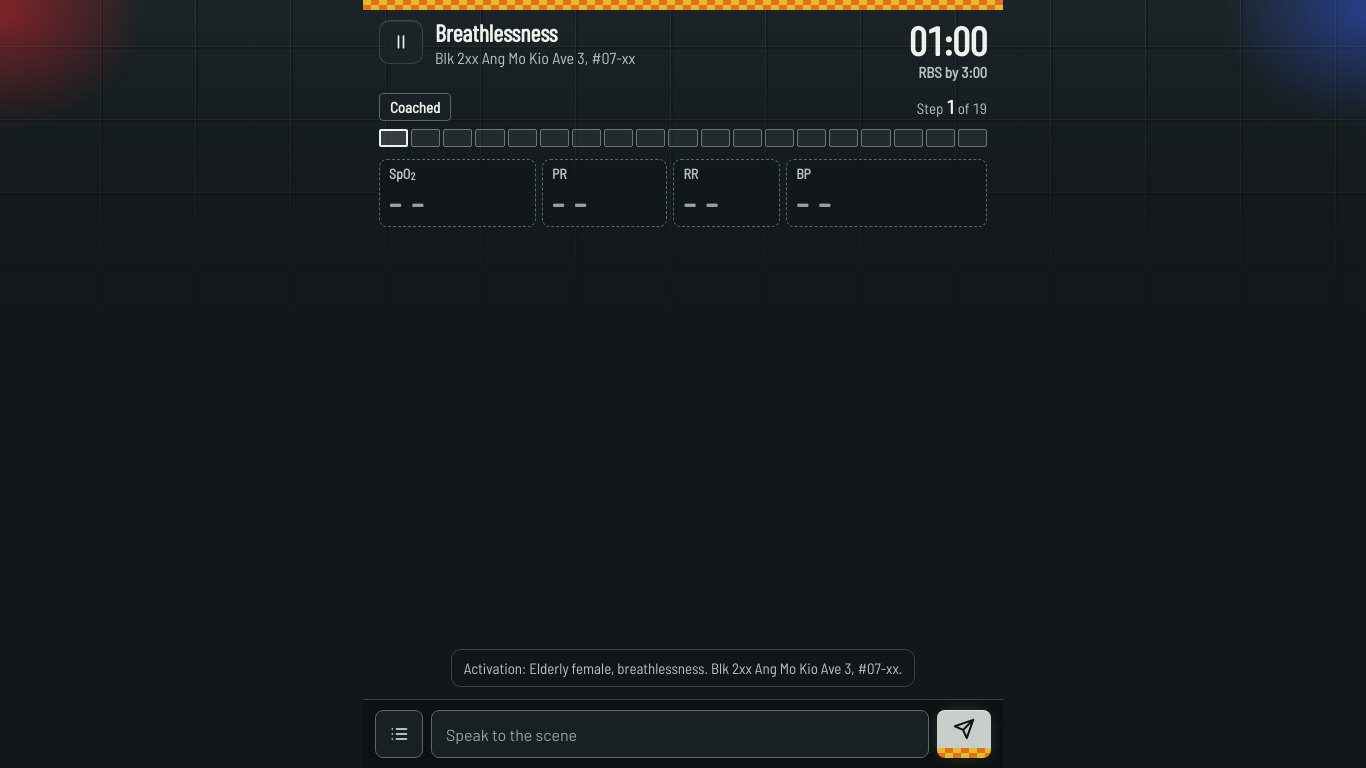
Pause › Resume closes it and the clock runs again
Click the button named "Pause": point(401, 42) 379,20 -> 423,64
Wait 5000 ms
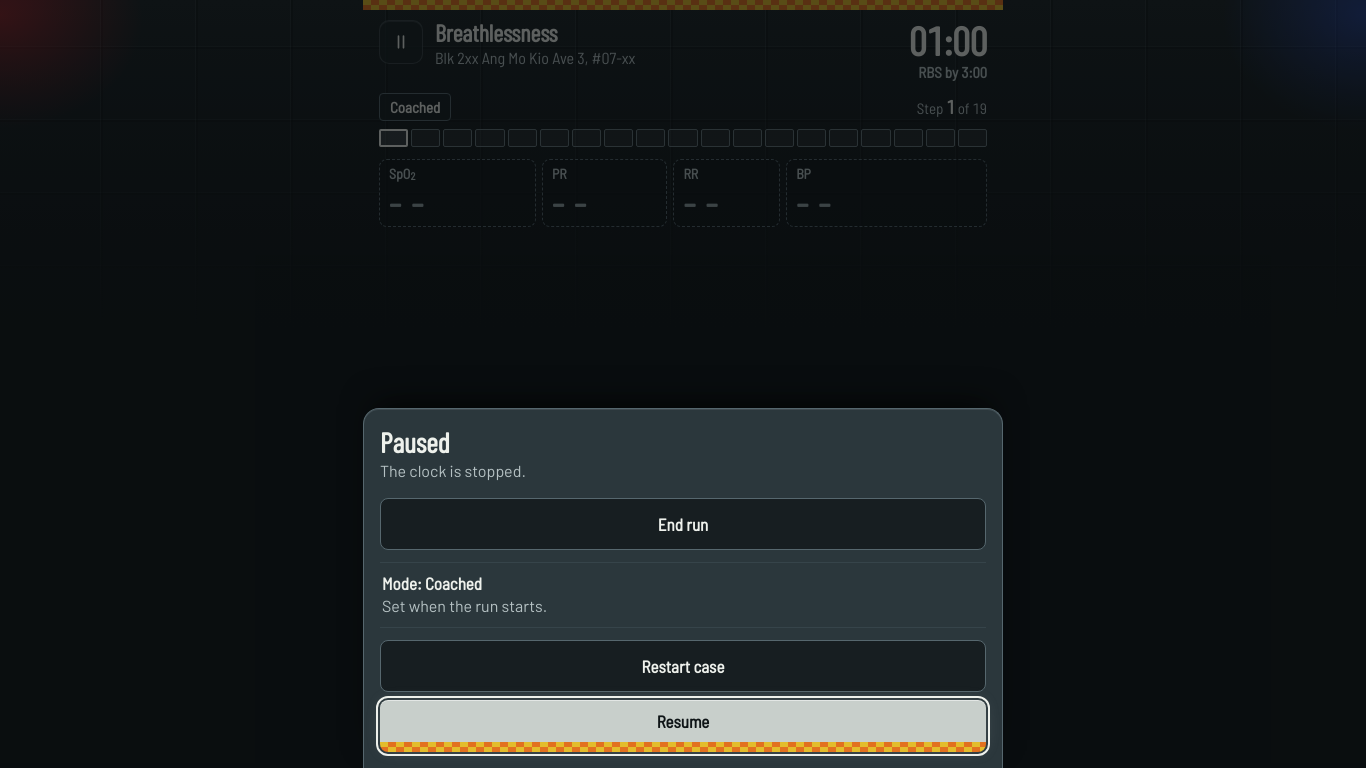
Click the button "Resume": point(683, 726) 380,700 -> 986,752
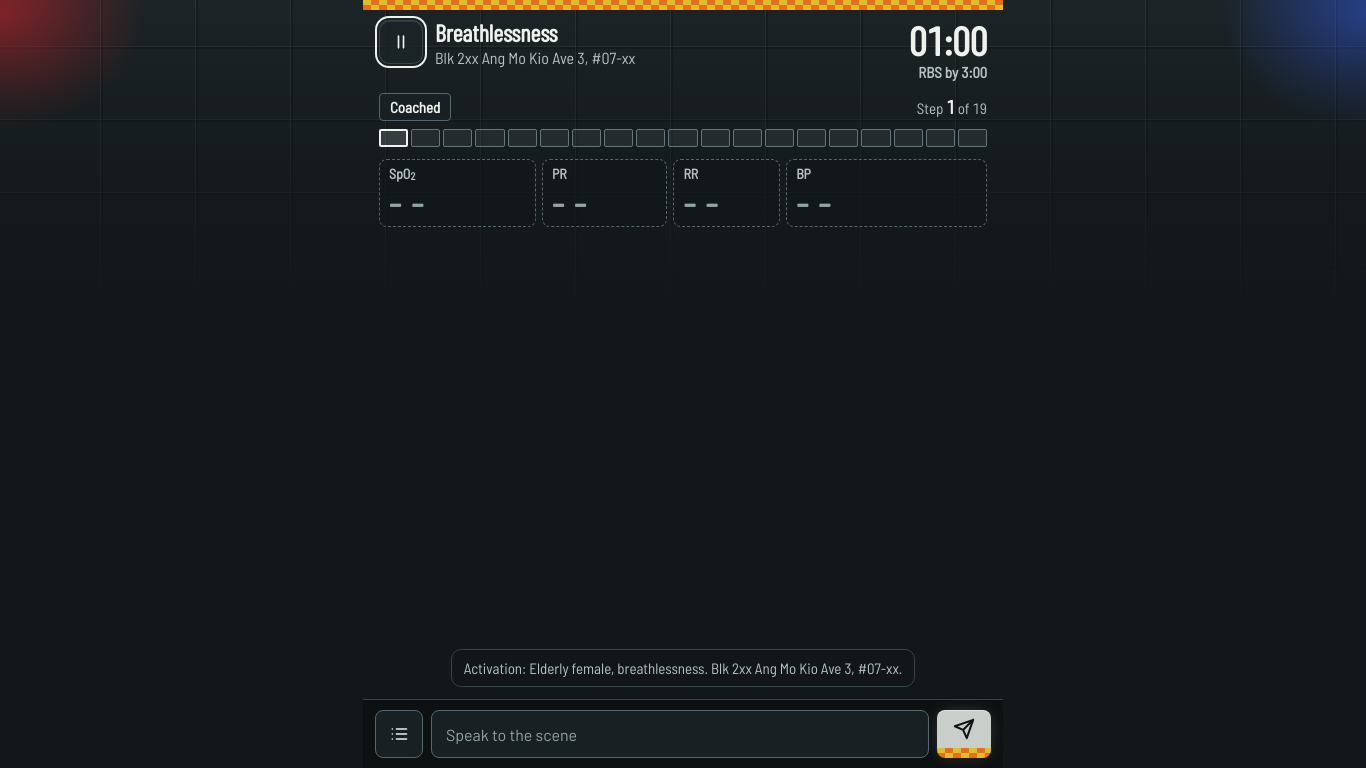
Expected: the heading "Paused" is gone
